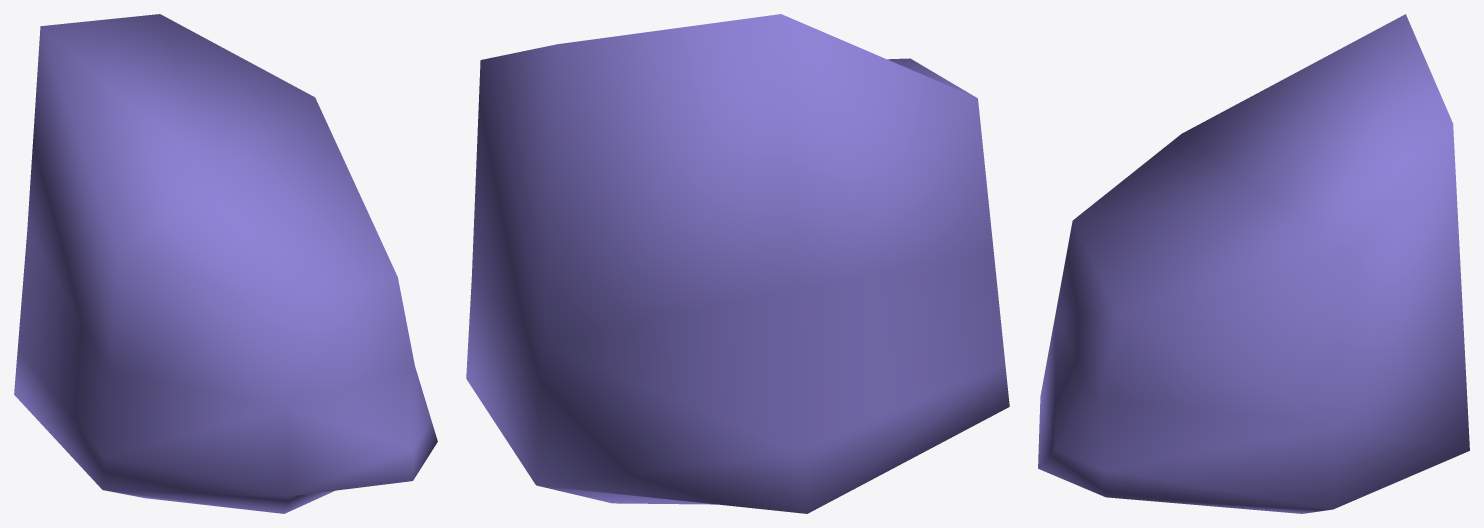
Rendered from Rock_Small_01.fbx.
3 views of the same model, side by side, from view 1: azimuth 30°, elevation 25°; view 2: azimuth 150°, elevation 25°; view 3: azimuth 270°, elevation 25° (orthographic). The views are drawn at different scales.
Parts seen in each view (by area): view 1: Rock_Small_01; view 2: Rock_Small_01; view 3: Rock_Small_01.
Part boxes in pixels (bbox=[...]): Rock_Small_01: bbox=[14, 14, 437, 513]; Rock_Small_01: bbox=[466, 14, 1009, 513]; Rock_Small_01: bbox=[1038, 14, 1469, 513].
Size of the model in its own units: 34.91 by 40.65 by 40.26.
